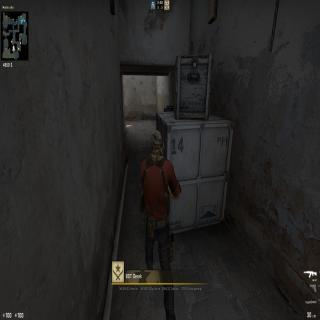T-Head: (149, 128, 165, 162)
